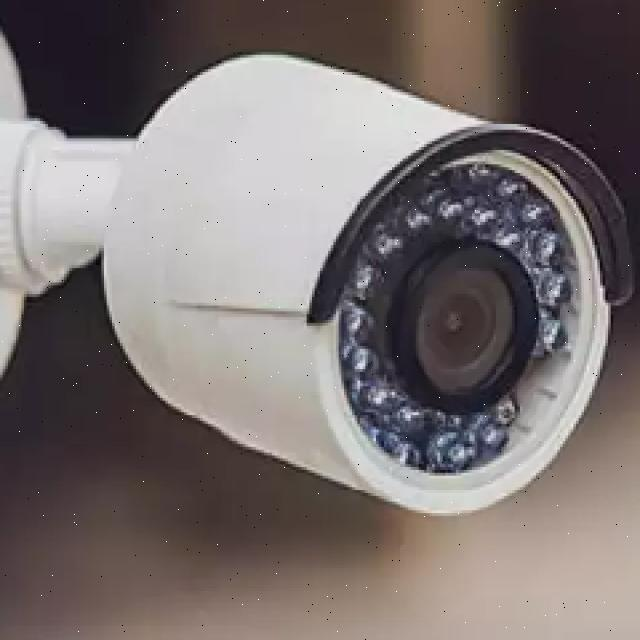cctv: (109, 93, 612, 526)
